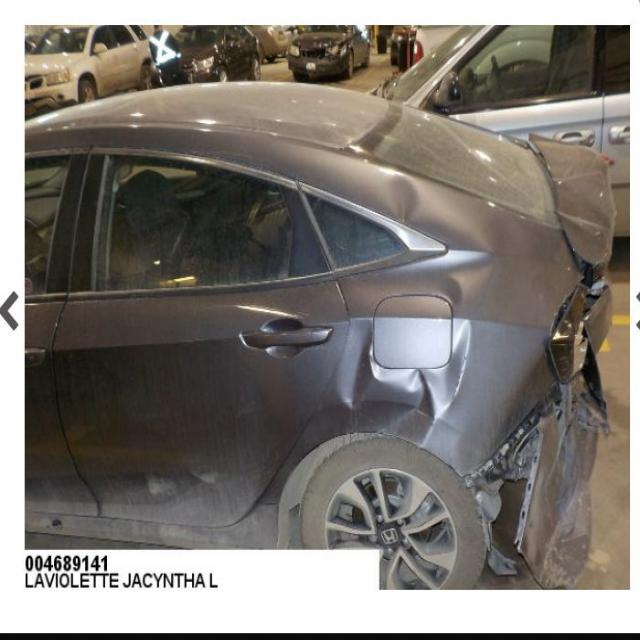quaterpanel-dent: (327, 251, 544, 476)
